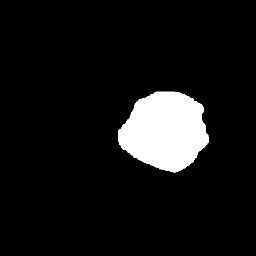mass: (120, 91, 202, 169)
